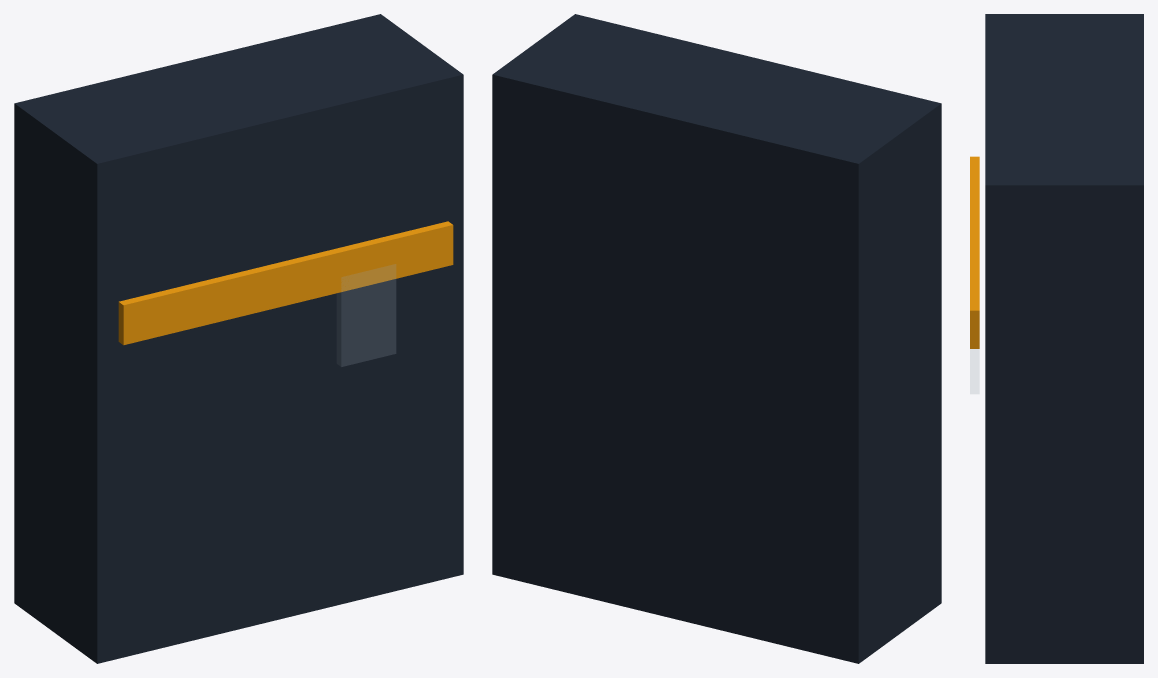
The model's file is goodwe-ht-250.glb.
3 views of the same model, side by side, from view 1: azimuth 30°, elevation 25°; view 2: azimuth 150°, elevation 25°; view 3: azimuth 270°, elevation 25° (orthographic). The views are drawn at different scales.
Bounding box in the file's own units: 1.15 × 1.5 × 0.4935.
